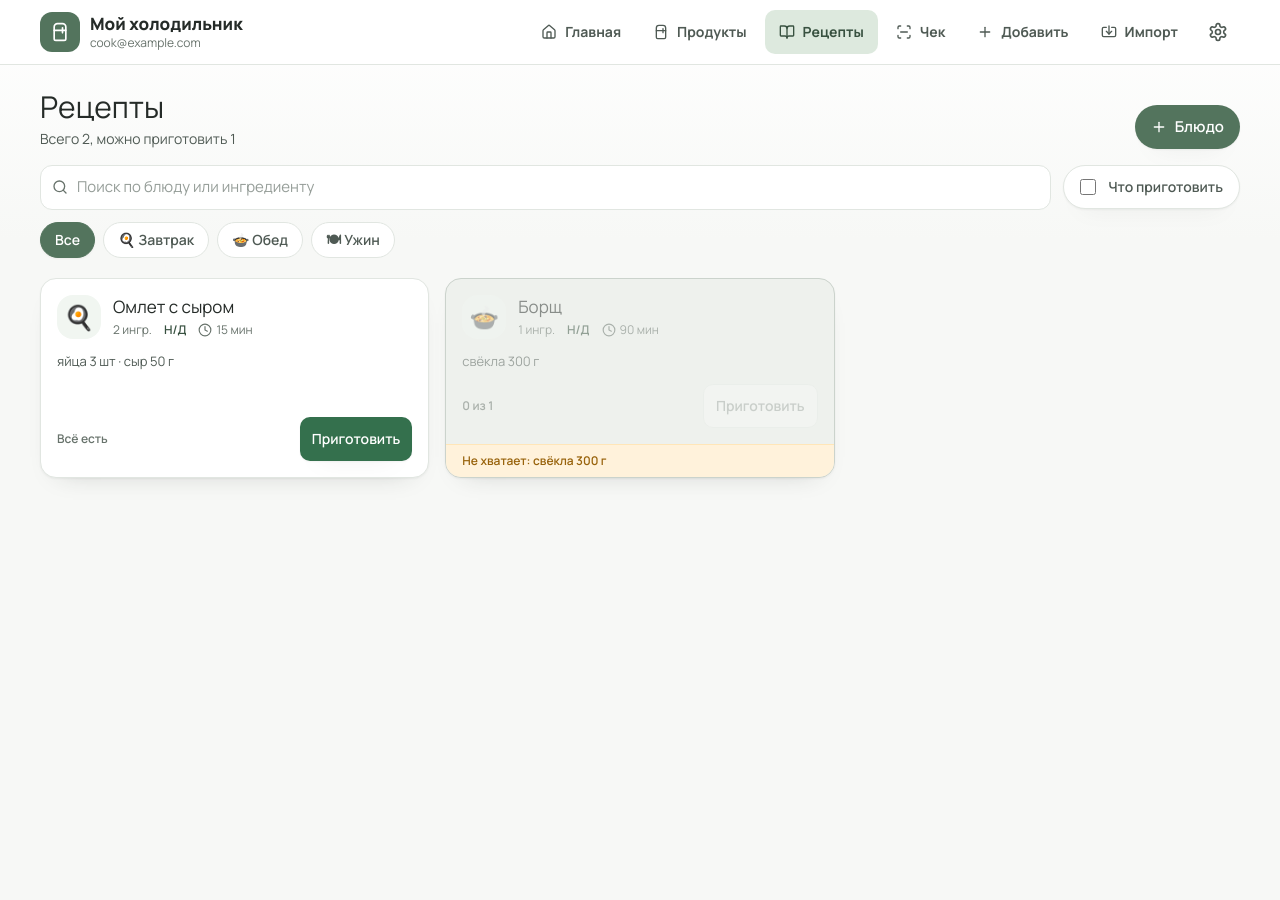
Подсказки ингредиентов из холодильника › выбор подсказки подставляет название и единицу измерения
Expected: the text "Омлет с сыром" is shown, x1=113 y1=294 x2=234 y2=318
Click the link "Добавить".
click(1023, 32)  # box x1=977 y1=22 x2=1069 y2=41
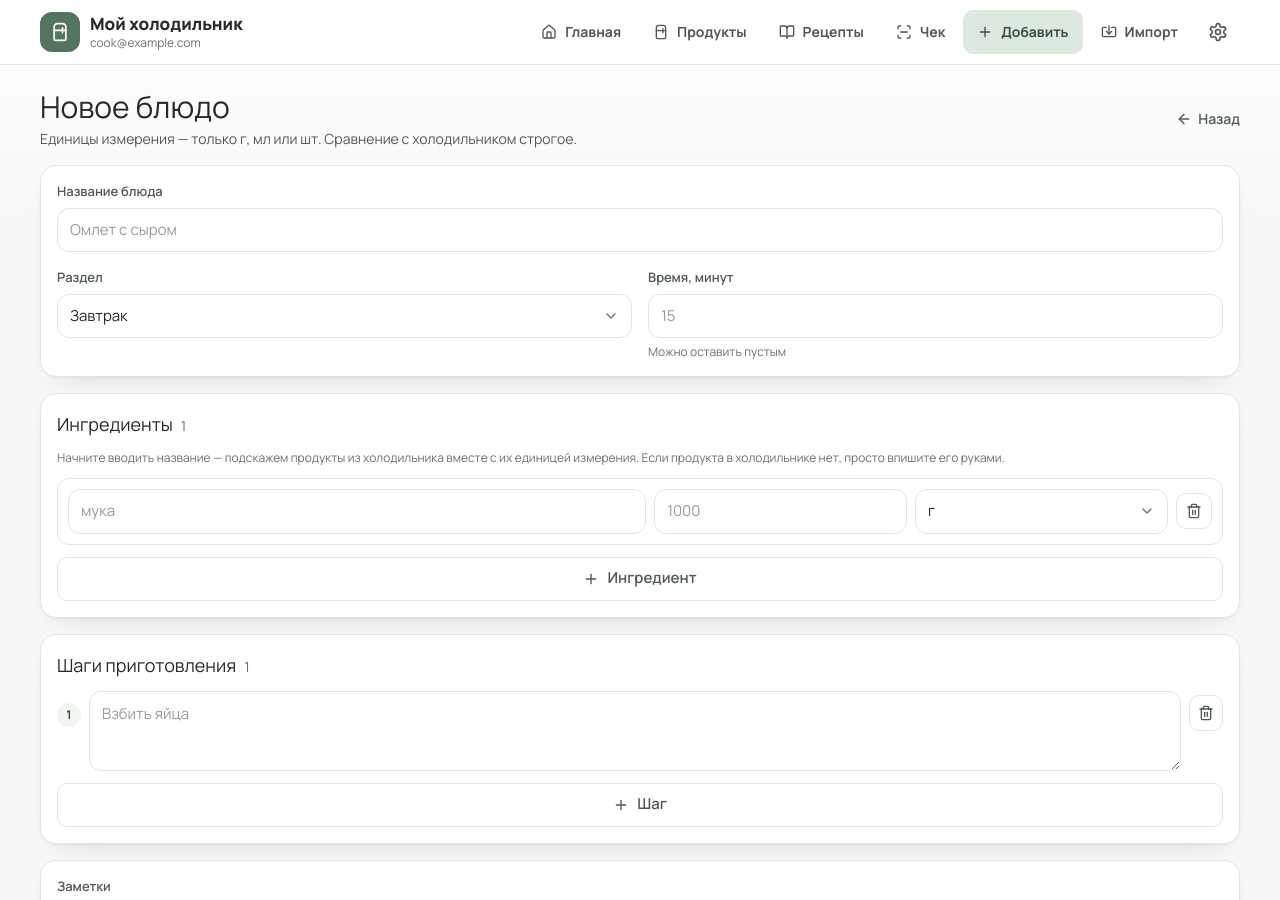
Result: the dropdown named "Название ингредиента №1" is shown
Type "мол" into the dropdown named "Название ингредиента №1".
click(357, 511); type("мол")  # box x1=68 y1=489 x2=646 y2=534
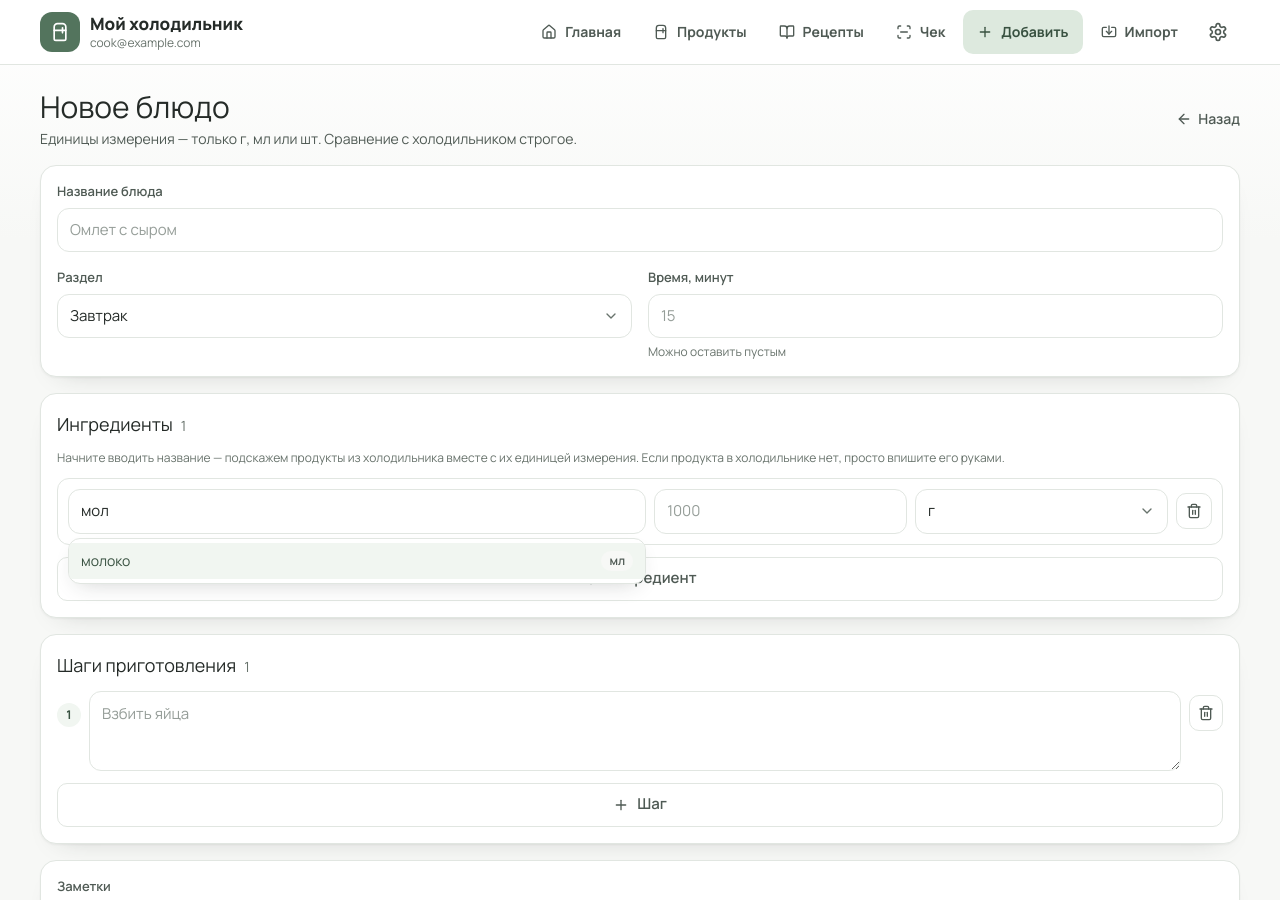
Click the option "молоко мл".
click(106, 560)  # box x1=69 y1=542 x2=645 y2=578
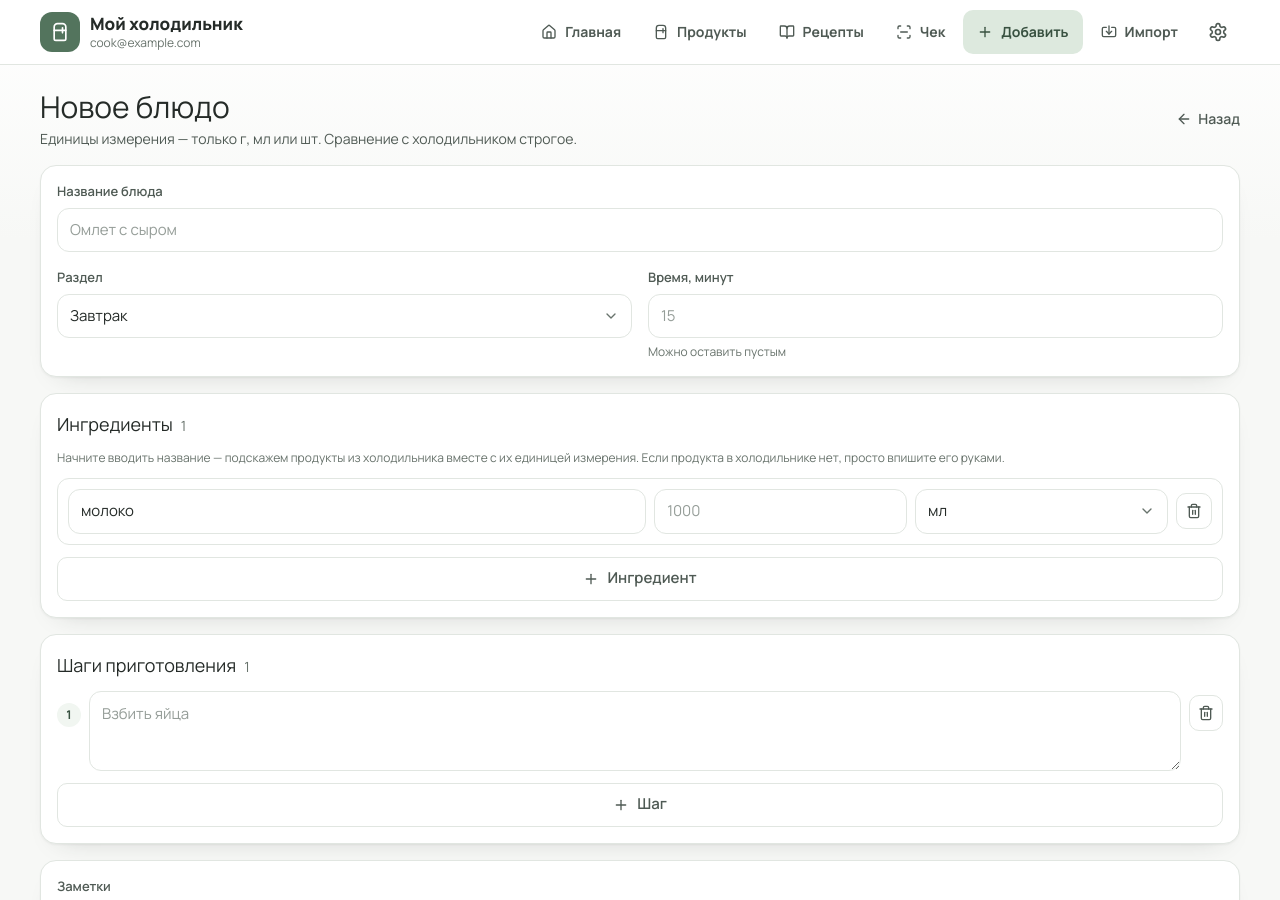
Result: the dropdown named "Название ингредиента №1" holds "молоко" at x1=68 y1=489 x2=646 y2=534
Result: the dropdown named "Единица измерения ингредиента №1" shows "мл" at x1=915 y1=489 x2=1168 y2=534
Result: the list is gone
